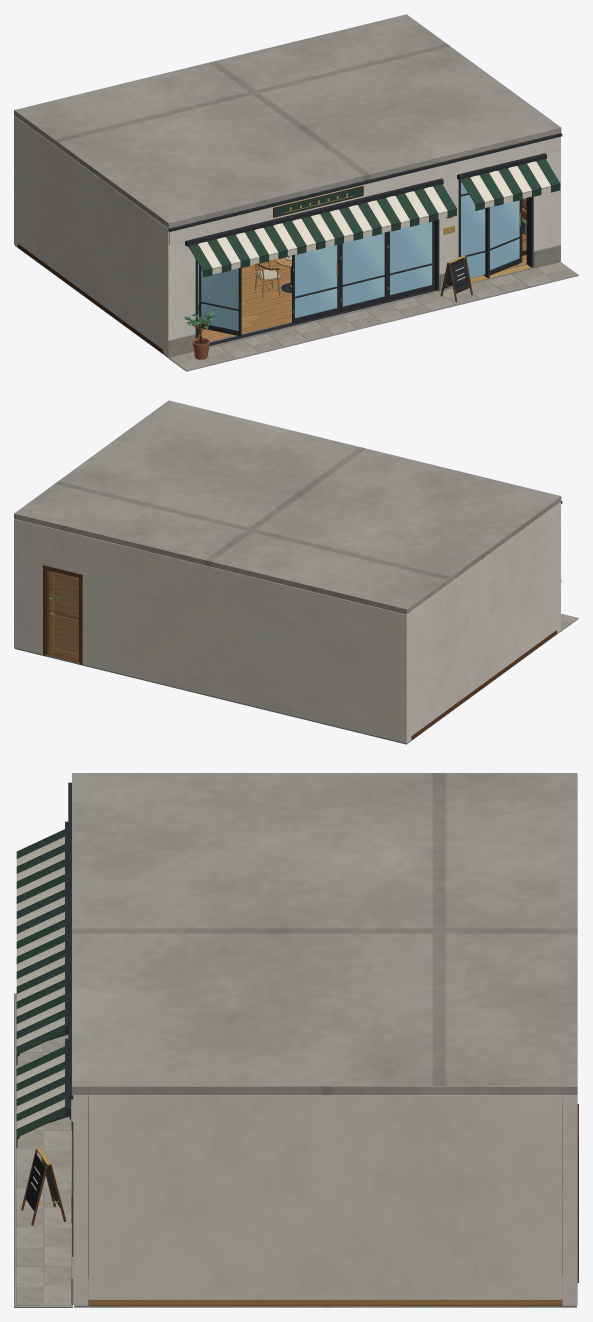
File: kr_atelier_cafe_interior.glb
3 renders of one model, top to bottom at view 1: azimuth 30°, elevation 25°; view 2: azimuth 150°, elevation 25°; view 3: azimuth 270°, elevation 25°, orthographic. The views are drawn at different scales.
Visible parts, largest first — view 1: BG_Ceiling, BG_Wall_South, BG_Wall_West, BG_Floor, BG_Props_Clutter, BG_Furniture_Hero, BG_Wall_North; view 2: BG_Ceiling, BG_Wall_North, BG_Wall_West, BG_Floor, BG_Wall_South; view 3: BG_Ceiling, BG_Wall_East, BG_Wall_South, BG_Floor, BG_Wall_North, BG_Props_Clutter.
Part boxes in pixels (x1,y1,x2,y2): BG_Ceiling: (14,14,561,228); BG_Wall_South: (163,133,562,356); BG_Wall_West: (18,119,163,353); BG_Floor: (14,245,578,371); BG_Props_Clutter: (98,234,472,359); BG_Furniture_Hero: (254,203,526,298); BG_Wall_North: (14,115,18,246); BG_Ceiling: (14,400,561,614); BG_Wall_North: (14,519,411,743); BG_Wall_West: (411,506,556,739); BG_Floor: (14,613,578,744); BG_Wall_South: (556,501,562,632); BG_Ceiling: (72,773,577,1095); BG_Wall_East: (88,1095,562,1305); BG_Wall_South: (16,782,88,1305); BG_Floor: (14,993,576,1307); BG_Wall_North: (562,1095,578,1305); BG_Props_Clutter: (21,1148,562,1225).
Bounding box in the file's own units: 10.03 × 3.3 × 7.62.
Materials: 4 (4 with a texture image).
